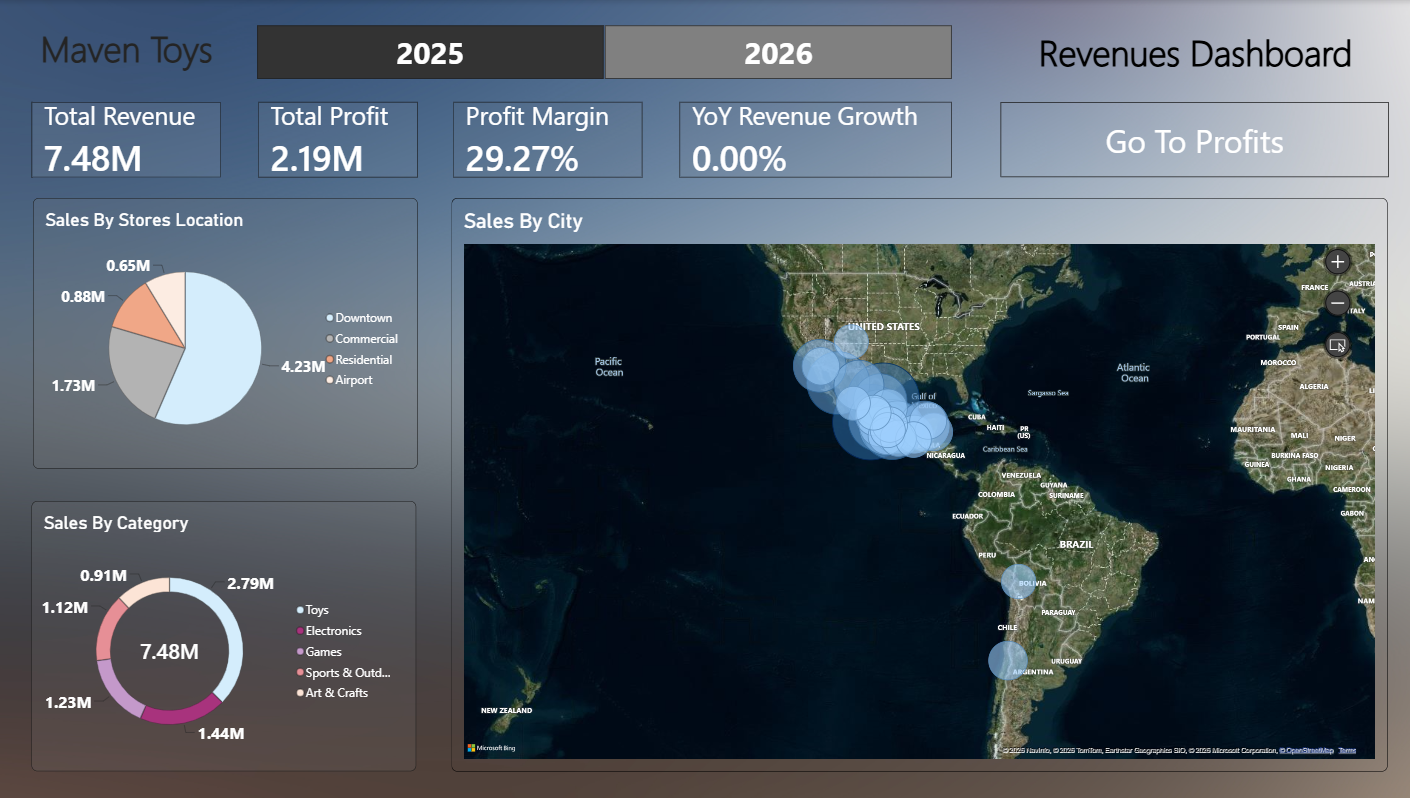

The page's visual inventory and layout, read from the dashboard file:
{"tool":"powerbi","page":{"name":"Revenues","canvas":[1920,1080],"ordinal":0},"visuals":[{"type":"image","box":[0,0,1920,1080],"z":0},{"type":"cardVisual","fields":{"Data":["measures_.Total Sales Revenue"]},"box":[46,138,256,102],"z":1000},{"type":"cardVisual","fields":{"Data":["measures_.Total Profit"]},"box":[352,138,216,102],"z":2000},{"type":"cardVisual","fields":{"Data":["measures_.Profit Margin %"]},"box":[616,138,256,102],"z":3000},{"type":"cardVisual","fields":{"Data":["measures_.YoY Revenue Growth %"]},"box":[922,138,368,102],"z":4000},{"type":"slicer","fields":{"Values":["Calendar.Year"]},"box":[331.1,31.5,978.9,75.8],"z":5000},{"type":"map","title":"Sales By City","fields":{"Category":["stores.Store_City"],"Size":["measures_.Total Sales Revenue"]},"box":[615,267.5,1265,775],"z":6000},{"type":"shape","box":[1358.9,32.2,523.3,74.4],"z":7000},{"type":"pieChart","title":"Sales By Stores Location","fields":{"Category":["stores.Store_Location"],"Y":["measures_.Total Sales Revenue"]},"box":[47.7,268,520.1,365.7],"z":8000},{"type":"donutChart","title":"Sales By Category","fields":{"Category":["products.Product_Category"],"Y":["measures_.Total Sales Revenue"]},"box":[47.5,677.5,520,365],"z":9000},{"type":"shape","box":[1356.7,138.3,525,101.7],"z":10000},{"type":"actionButton","box":[1356.7,138.3,525,101.7],"z":11000},{"type":"textbox","box":[48,32,254,74],"z":12000}]}

Visuals, with their boxes in screenshot pixels (x1, y1, x2, y2), scaled from the page's 1920x1080 canvas onto the 1410x798 screenshot:
image: box=[0, 0, 1409, 797]
cardVisual - measures_.Total Sales Revenue: box=[34, 102, 222, 177]
cardVisual - measures_.Total Profit: box=[258, 102, 417, 177]
cardVisual - measures_.Profit Margin %: box=[452, 102, 640, 177]
cardVisual - measures_.YoY Revenue Growth %: box=[677, 102, 947, 177]
slicer - Calendar.Year: box=[243, 23, 962, 79]
"Sales By City" map: box=[452, 198, 1381, 770]
shape: box=[998, 24, 1382, 79]
"Sales By Stores Location" pieChart: box=[35, 198, 417, 468]
"Sales By Category" donutChart: box=[35, 501, 417, 770]
shape: box=[996, 102, 1382, 177]
actionButton: box=[996, 102, 1382, 177]
textbox: box=[35, 24, 222, 78]
